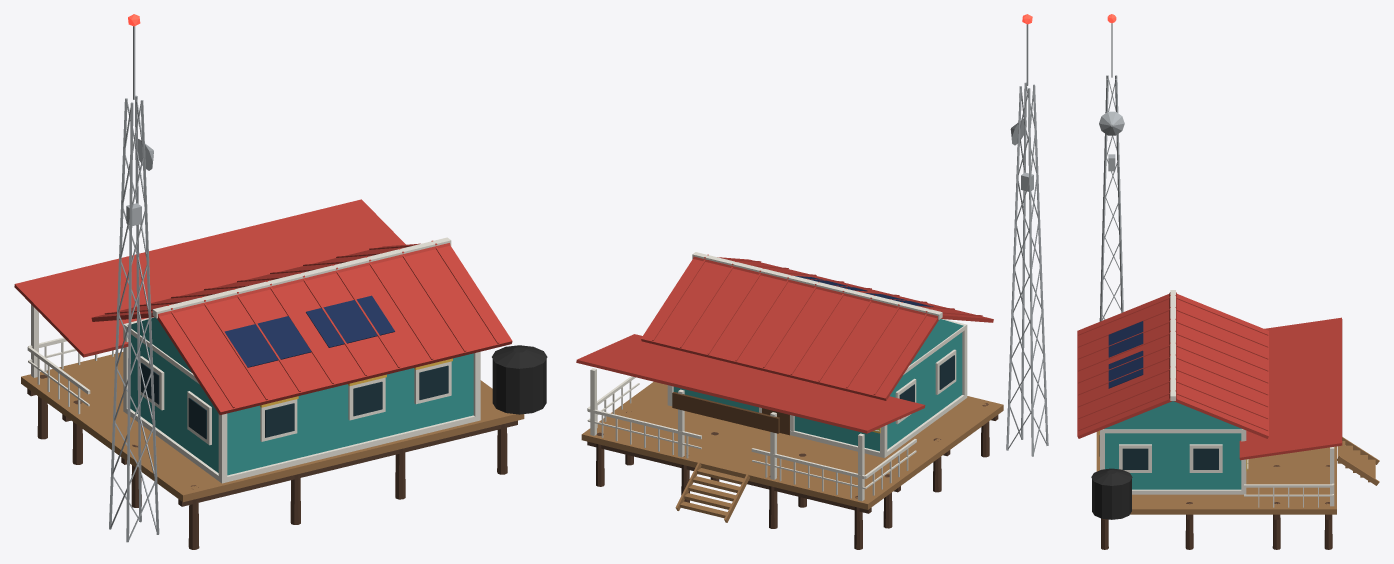
Rendered from refugio.glb.
3 renders of one model, left to right at view 1: azimuth 30°, elevation 25°; view 2: azimuth 150°, elevation 25°; view 3: azimuth 270°, elevation 25°, orthographic. The views are drawn at different scales.
Parts seen in each view (by area): view 1: refugio; view 2: refugio; view 3: refugio.
Part boxes in pixels (left/top/right/bottom): refugio: left=14, top=14, right=547, bottom=549; refugio: left=576, top=14, right=1048, bottom=549; refugio: left=1077, top=14, right=1379, bottom=549.
Bounding box in the file's own units: 15.48 × 18.87 × 12.83.
